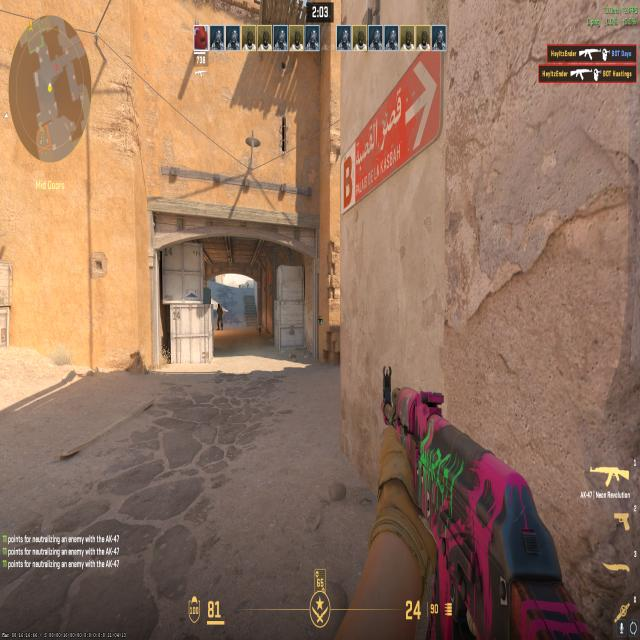ct: (212, 300, 226, 333)
